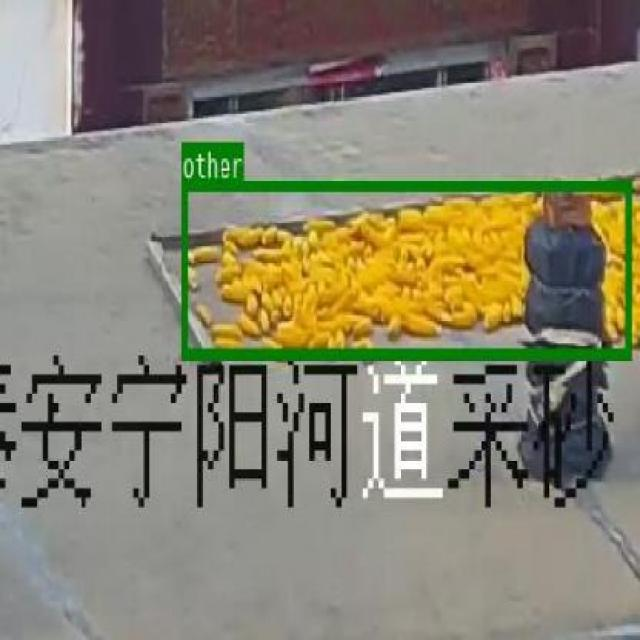other: (181, 178, 630, 356)
